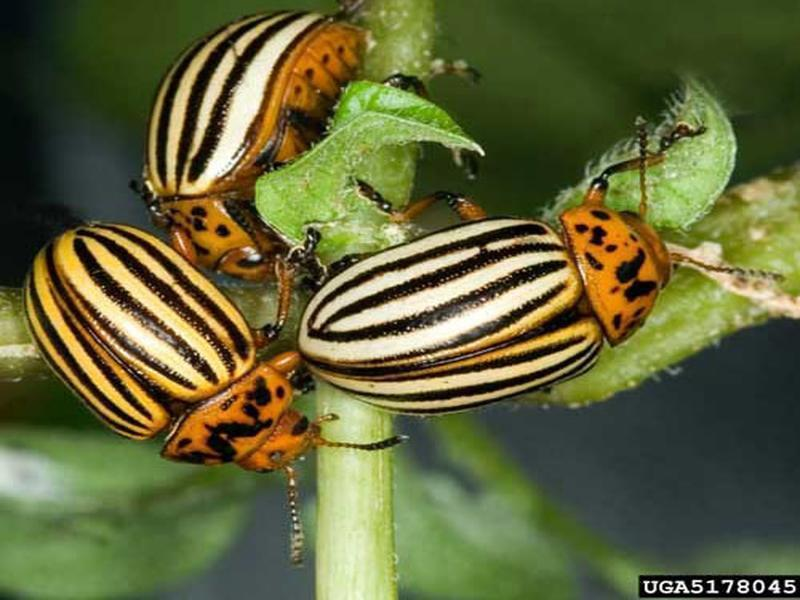hrosc: (296, 185, 670, 420), (21, 217, 326, 482), (135, 9, 350, 291)
